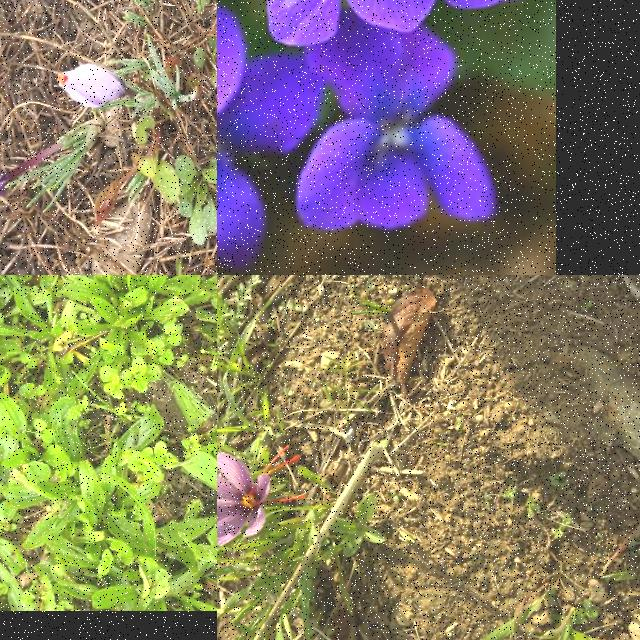flower: (217, 445, 306, 547), (57, 63, 131, 109)
